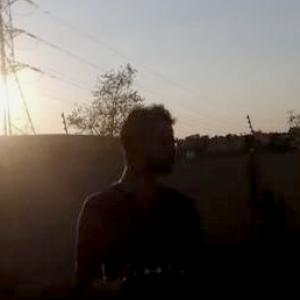follow: (76, 94, 221, 299)
